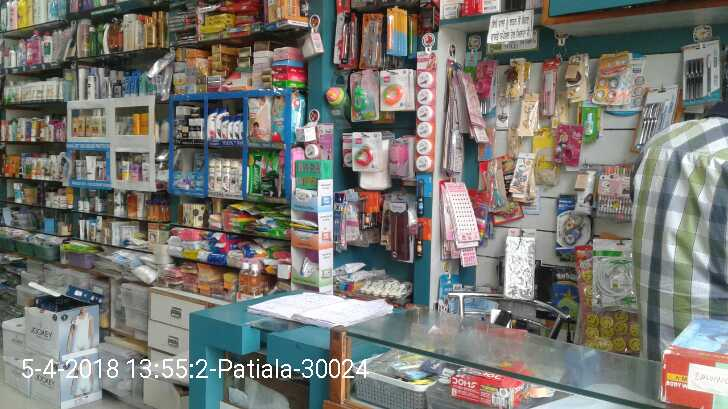venus: (189, 172, 204, 189), (175, 171, 187, 187), (194, 151, 204, 170)
